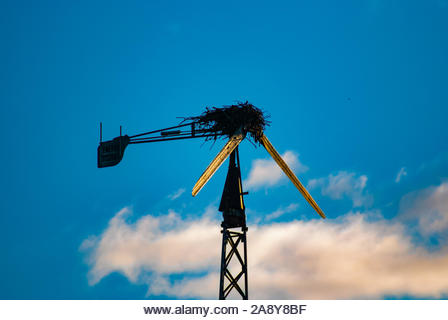faulty: (96, 96, 310, 211)
